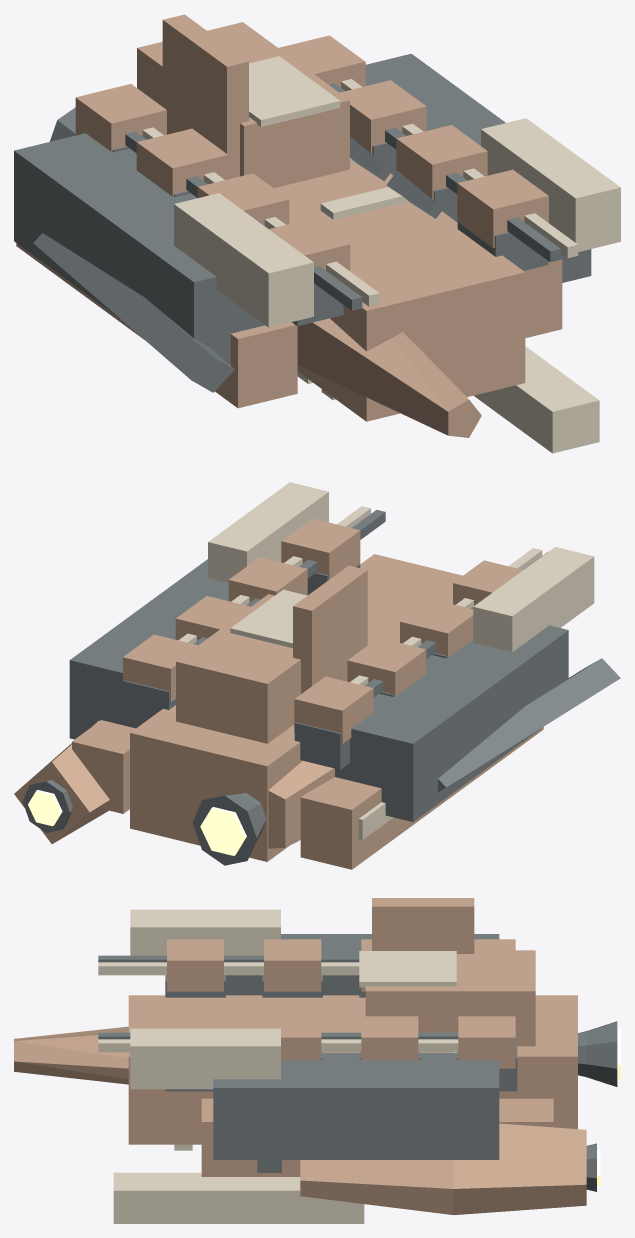
3 renders of one model, top to bottom at view 1: azimuth 30°, elevation 25°; view 2: azimuth 150°, elevation 25°; view 3: azimuth 270°, elevation 25°, orthographic. The views are drawn at different scales.
Size of the model in its own units: 13.59 by 8.88 by 19.99.
